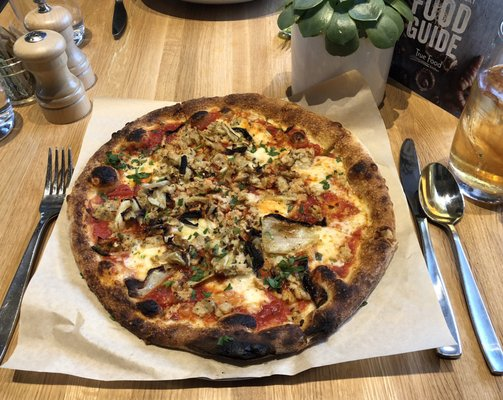salad: (418, 164, 502, 372)
sandwich: (420, 159, 503, 375), (396, 138, 462, 367)
